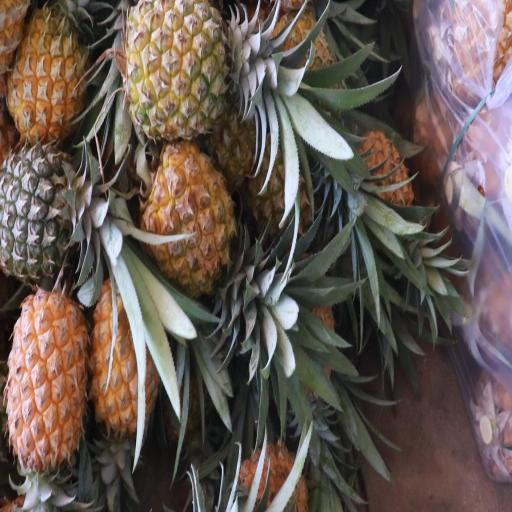Pineapple - v8 v1: (121, 0, 305, 146), (144, 123, 264, 319), (6, 278, 90, 509), (0, 4, 96, 146), (90, 272, 161, 435)
